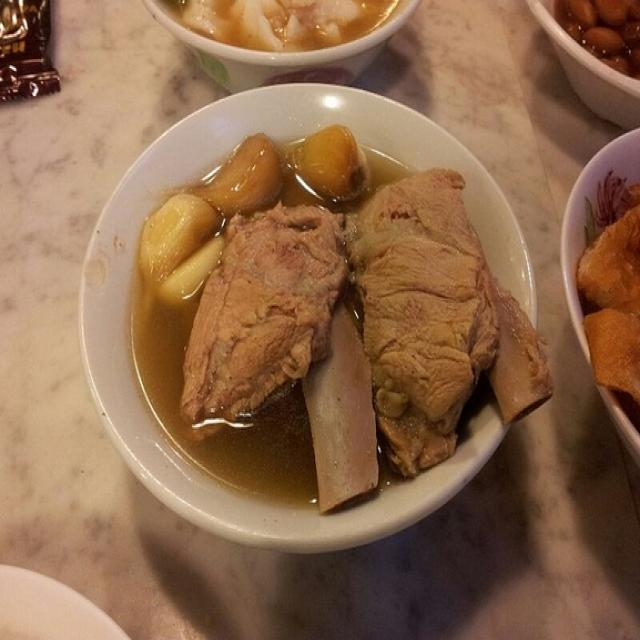汤锅炖物: (90, 74, 528, 538)
